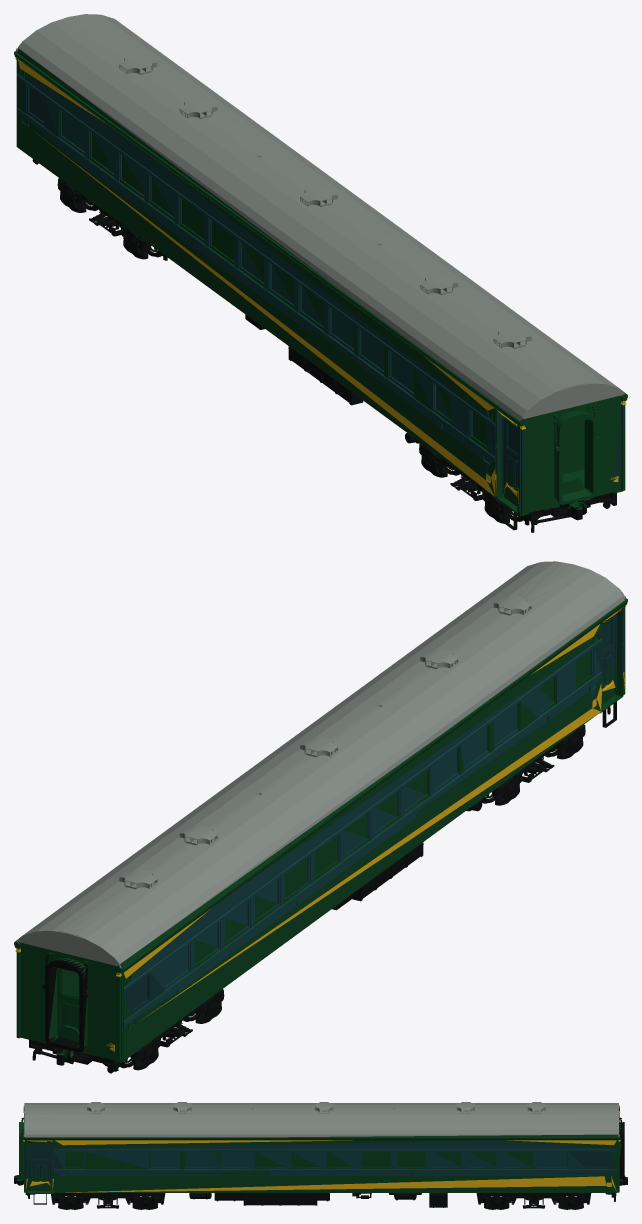
Rendered from HXD3D_waggon_colored.glb.
The picture shows the model from 3 angles, top to bottom: view 1: azimuth 30°, elevation 25°; view 2: azimuth 150°, elevation 25°; view 3: azimuth 270°, elevation 25°; orthographic projection. The views are drawn at different scales.
Parts seen in each view (by area): view 1: ColoredPassengerCar; view 2: ColoredPassengerCar; view 3: ColoredPassengerCar.
Part boxes in pixels (<box>): ColoredPassengerCar: <box>14,14,627,532</box>; ColoredPassengerCar: <box>14,561,627,1073</box>; ColoredPassengerCar: <box>14,1102,627,1209</box>.
Bounding box in the file's own units: 3.1 × 4.43 × 25.5.
